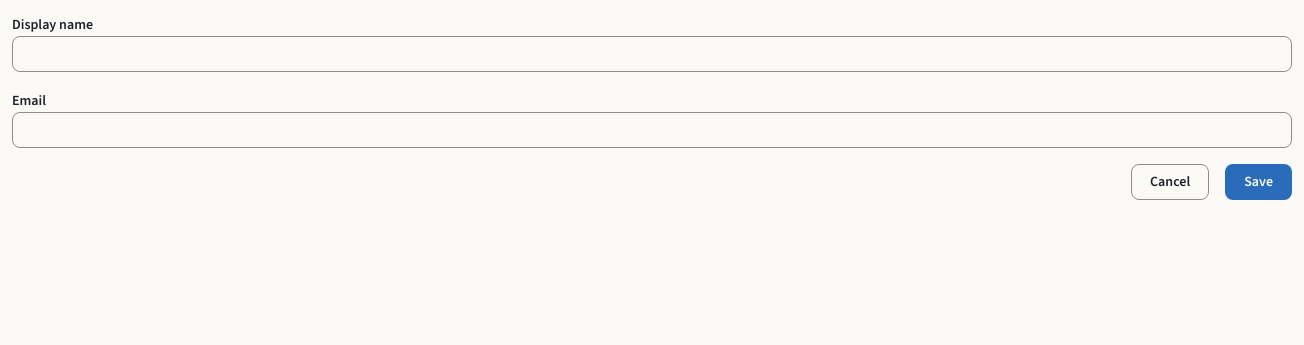
it: the form › says a change held for a second administrator waits, in the information colour, with a link, not as a failure [TF-068 AC1, ADR-0052]
Click the field labelled "Display name" at (652, 54), box [12, 36, 1292, 72]
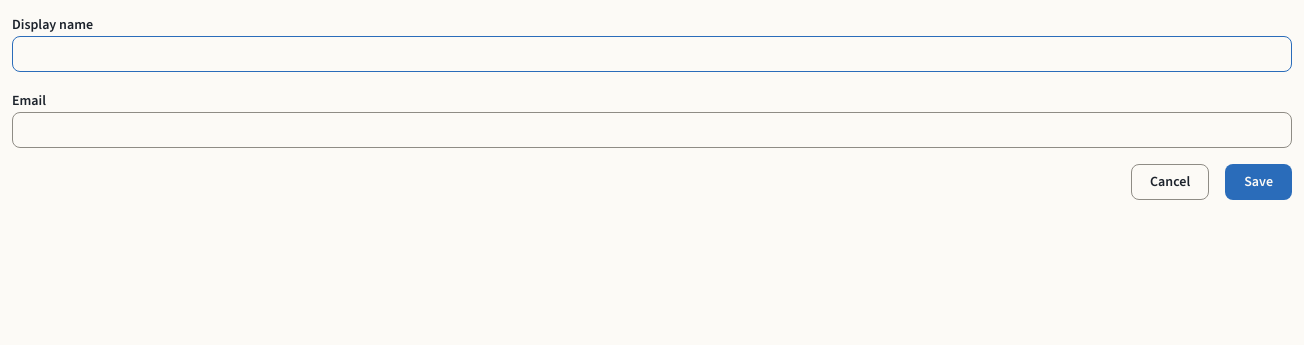
Type keys "Ada"
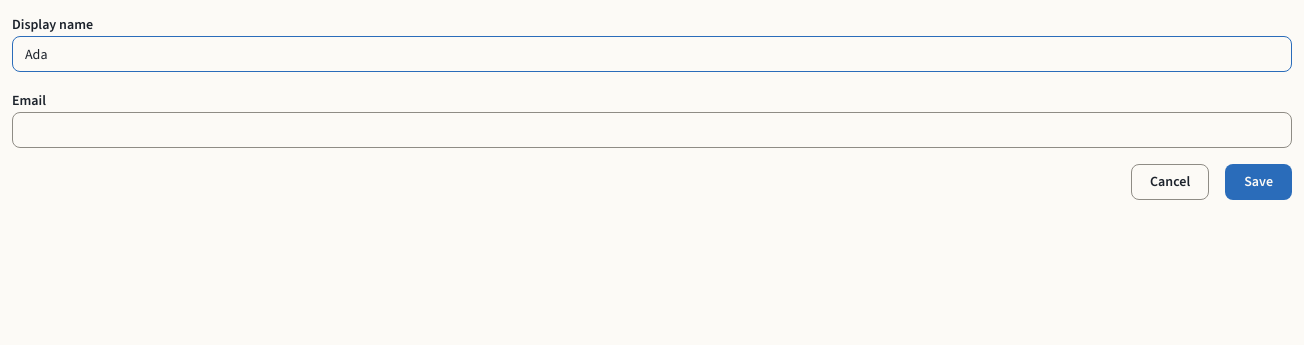
Click the field labelled "Email" at (652, 130), box [12, 112, 1292, 148]
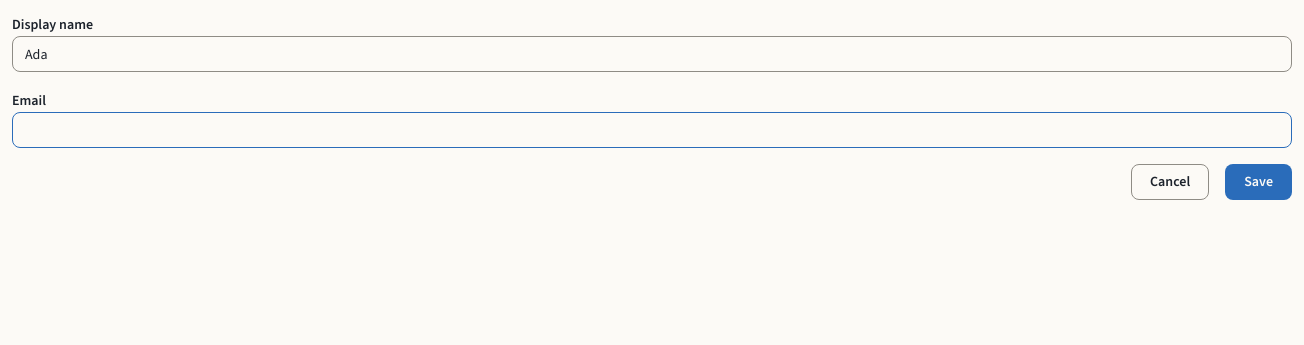
Type keys "ada@example.com"
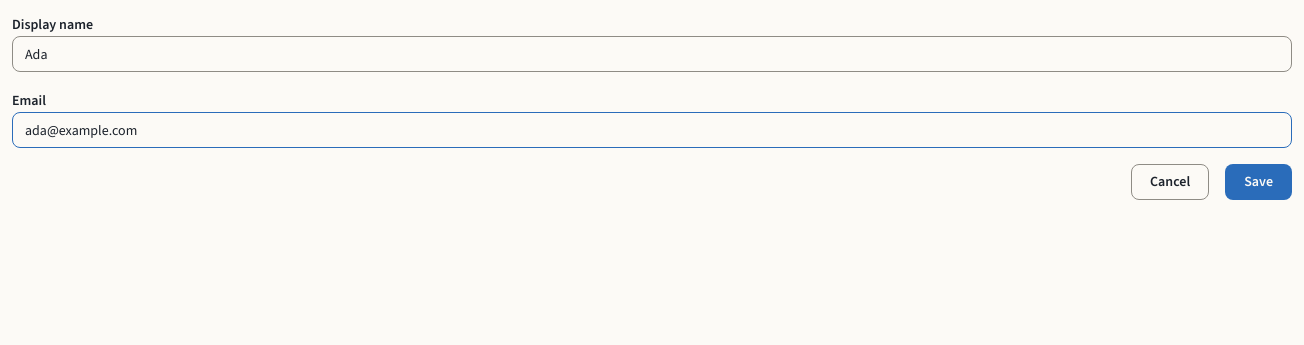
Click the button "Save" at (1259, 182), box [1225, 164, 1292, 200]
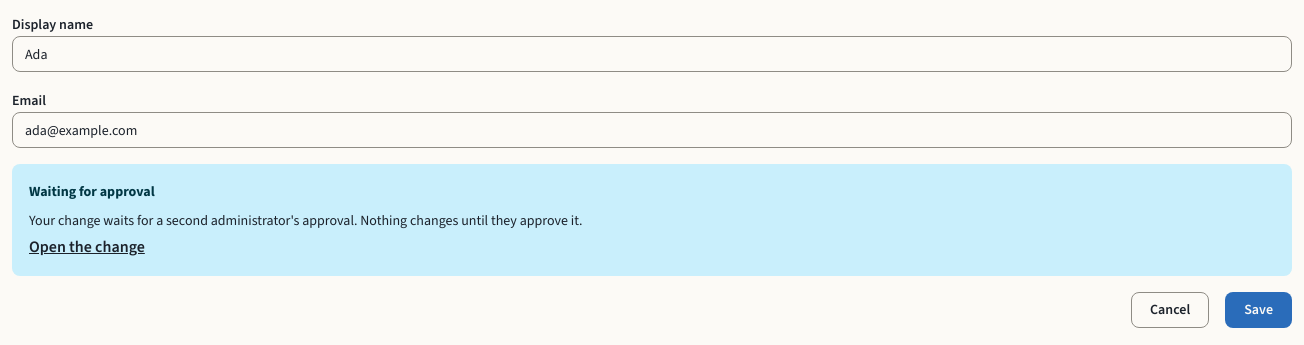
Result: the message shows "Your change waits for a second administrator's approval." at [29, 211, 582, 230]
